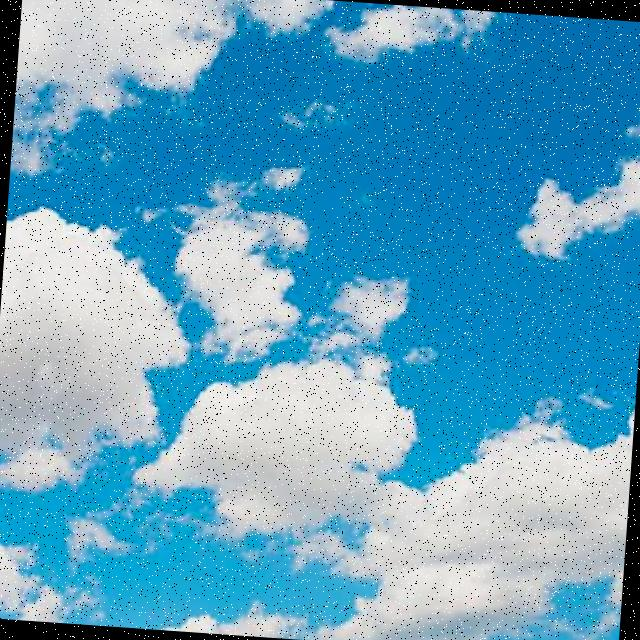Cu: (1, 18, 640, 584)
